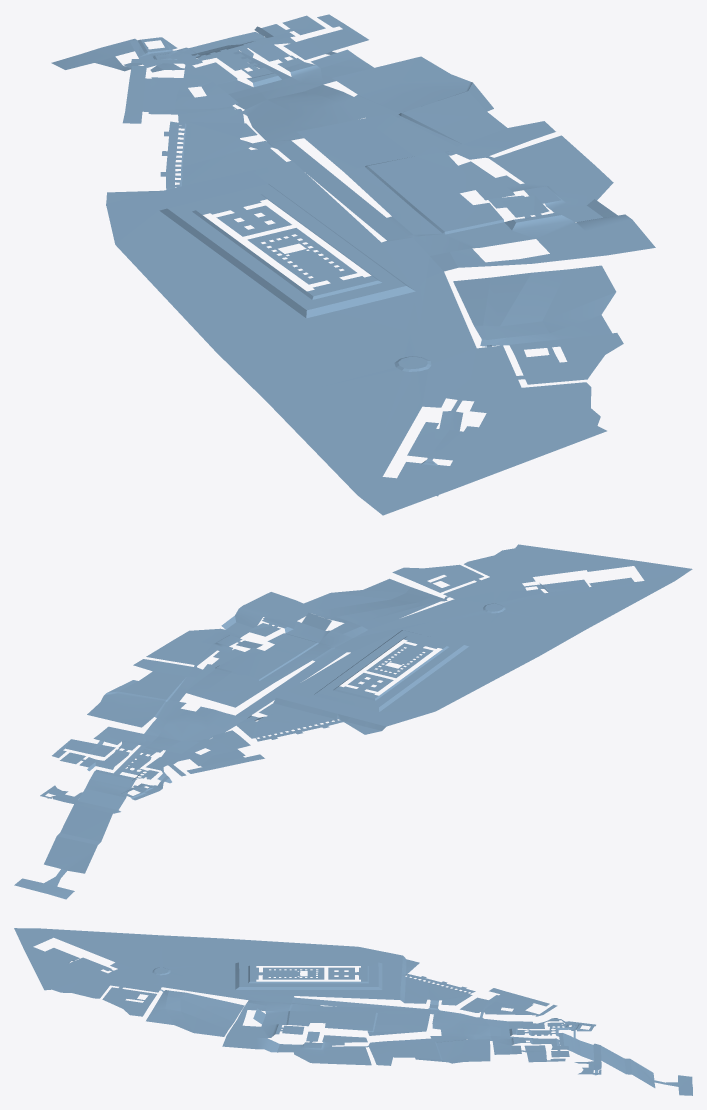
File: AcropolisWalk.glb
The picture shows the model from 3 angles, top to bottom: view 1: azimuth 30°, elevation 25°; view 2: azimuth 150°, elevation 25°; view 3: azimuth 270°, elevation 25°; orthographic projection. The views are drawn at different scales.
Visible parts, largest first — view 1: WalkConstraint; view 2: WalkConstraint; view 3: WalkConstraint.
Boxes of the visible parts, box(x1,y1,x2,y2) form: WalkConstraint: box(51, 14, 655, 515); WalkConstraint: box(14, 544, 692, 899); WalkConstraint: box(14, 928, 692, 1095).
Bounding box in the file's own units: 148 × 36.12 × 324.
